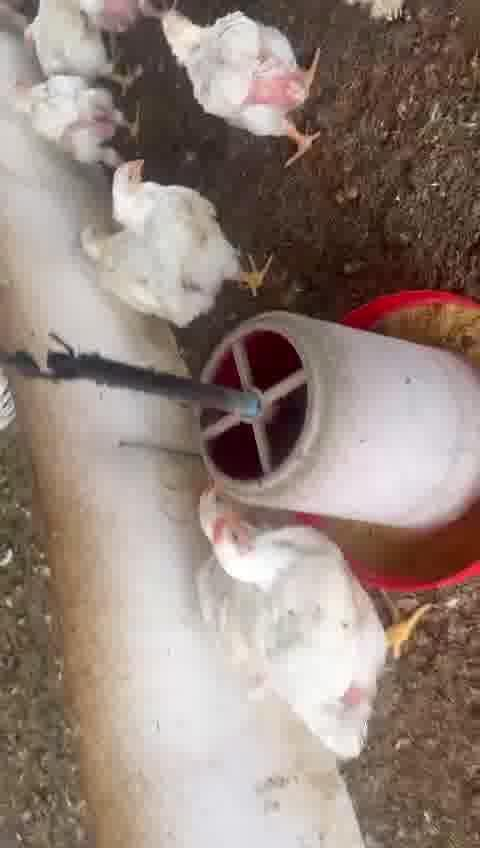Normal: (199, 487, 417, 772), (164, 5, 323, 170), (112, 155, 270, 298), (77, 222, 237, 321), (17, 80, 138, 168), (24, 15, 138, 90)
